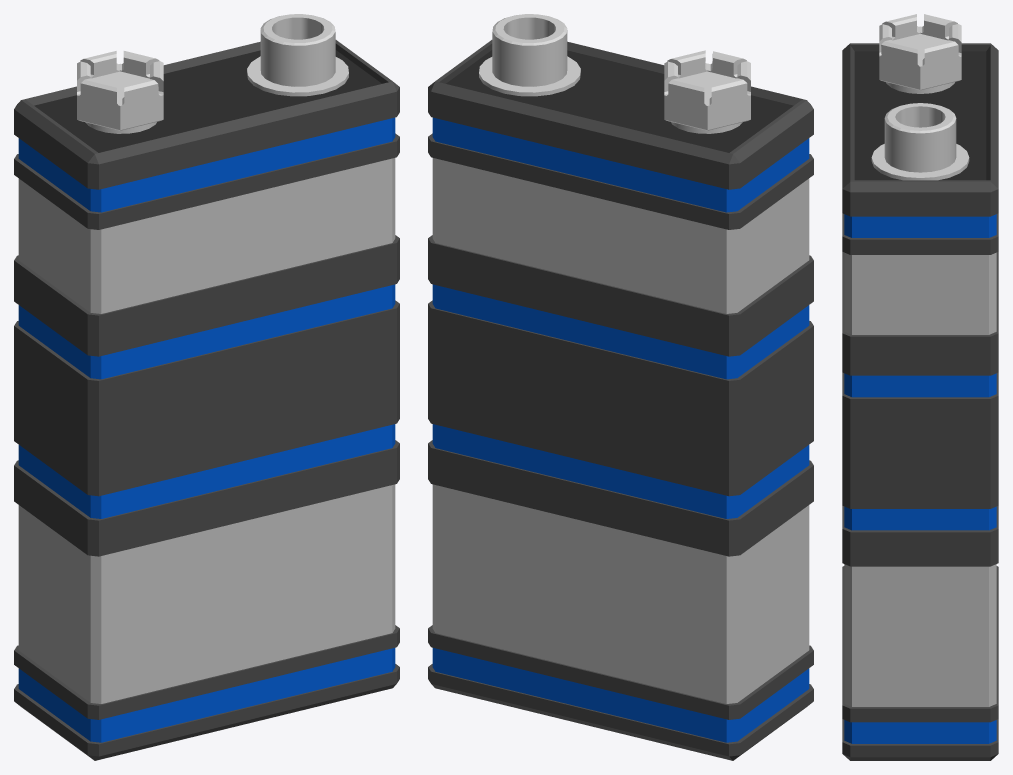
The model's file is SM_BatteryPickup.fbx.
The picture shows the model from 3 angles, left to right: view 1: azimuth 30°, elevation 25°; view 2: azimuth 150°, elevation 25°; view 3: azimuth 270°, elevation 25°; orthographic projection. The views are drawn at different scales.
Visible parts, largest first — view 1: pCylinder10; view 2: pCylinder10; view 3: pCylinder10.
Part boxes in pixels (left/top/right/bottom): pCylinder10: left=14, top=14, right=399, bottom=760; pCylinder10: left=428, top=14, right=813, bottom=760; pCylinder10: left=842, top=14, right=998, bottom=760.
Size of the model in its own units: 2.76 by 5.5 by 1.26.
